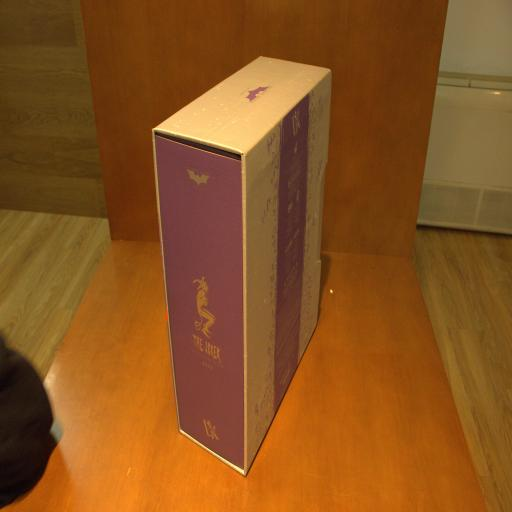Joker: (156, 55, 332, 476)
